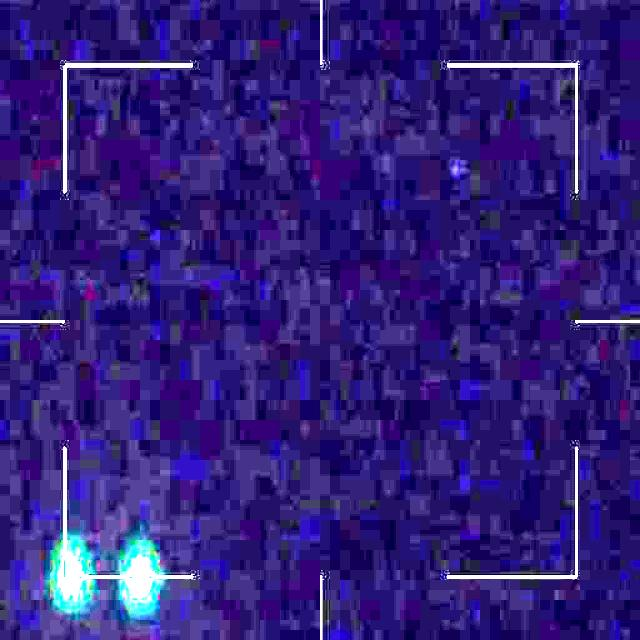bird: (56, 550, 156, 606)
